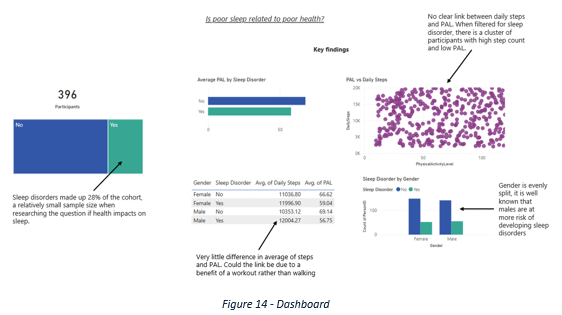

This screenshot's page, from the dashboard's own definition file:
{"tool":"powerbi","page":{"name":"Page 1","canvas":[1280,720],"ordinal":0},"visuals":[{"type":"card","fields":{"Values":["CountNonNull(newsleep_health_lifestyle_dataset.PersonID)"]},"box":[106.4,213.8,106.4,99],"z":0},{"type":"treemap","title":"Sleep disorder split","fields":{"Values":["CountNonNull(newsleep_health_lifestyle_dataset.PersonID)"],"Group":["newsleep_health_lifestyle_dataset.SleepDisorder"]},"box":[23.2,312.8,325.3,143.1],"z":1000},{"type":"clusteredBarChart","title":"Average PAL by Sleep Disorder","fields":{"Category":["newsleep_health_lifestyle_dataset.SleepDisorder"],"Y":["Avg(newsleep_health_lifestyle_dataset.PhysicalActivityLevel)"]},"box":[470.7,214,321.1,146.8],"z":2000},{"type":"scatterChart","title":"PAL vs Daily Steps","fields":{"X":["newsleep_health_lifestyle_dataset.PhysicalActivityLevel"],"Y":["newsleep_health_lifestyle_dataset.DailySteps"]},"box":[832.9,214,404.8,223.7],"z":3000},{"type":"textbox","box":[735.5,131.7,131.7,34.3],"z":4000},{"type":"textbox","box":[458.3,54.9,362.3,45.3],"z":5000},{"type":"tableEx","fields":{"Values":["newsleep_health_lifestyle_dataset.Gender","newsleep_health_lifestyle_dataset.SleepDisorder","Avg(newsleep_health_lifestyle_dataset.DailySteps)","Avg(newsleep_health_lifestyle_dataset.PhysicalActivityLevel)"]},"box":[454.9,455.9,365.6,128.4],"z":6000},{"type":"clusteredColumnChart","title":"Sleep Disorder by Gender","fields":{"Category":["newsleep_health_lifestyle_dataset.Gender"],"Y":["CountNonNull(newsleep_health_lifestyle_dataset.PersonID)"],"Series":["newsleep_health_lifestyle_dataset.SleepDisorder"]},"box":[873.1,455.9,324.1,179.8],"z":7000}]}

Visuals, with their boxes in screenshot pixels (x1, y1, x2, y2), scaled from the page's 1280x720 canvas onto the 562x315 screenshot:
card - CountNonNull(newsleep_health_lifestyle_dataset.PersonID): (47,94,93,137)
"Sleep disorder split" treemap: (10,137,153,199)
"Average PAL by Sleep Disorder" clusteredBarChart: (207,94,348,158)
"PAL vs Daily Steps" scatterChart: (366,94,543,191)
textbox: (323,58,381,73)
textbox: (201,24,360,44)
tableEx - newsleep_health_lifestyle_dataset.Gender x newsleep_health_lifestyle_dataset.SleepDisorder: (200,199,360,256)
"Sleep Disorder by Gender" clusteredColumnChart: (383,199,526,278)
